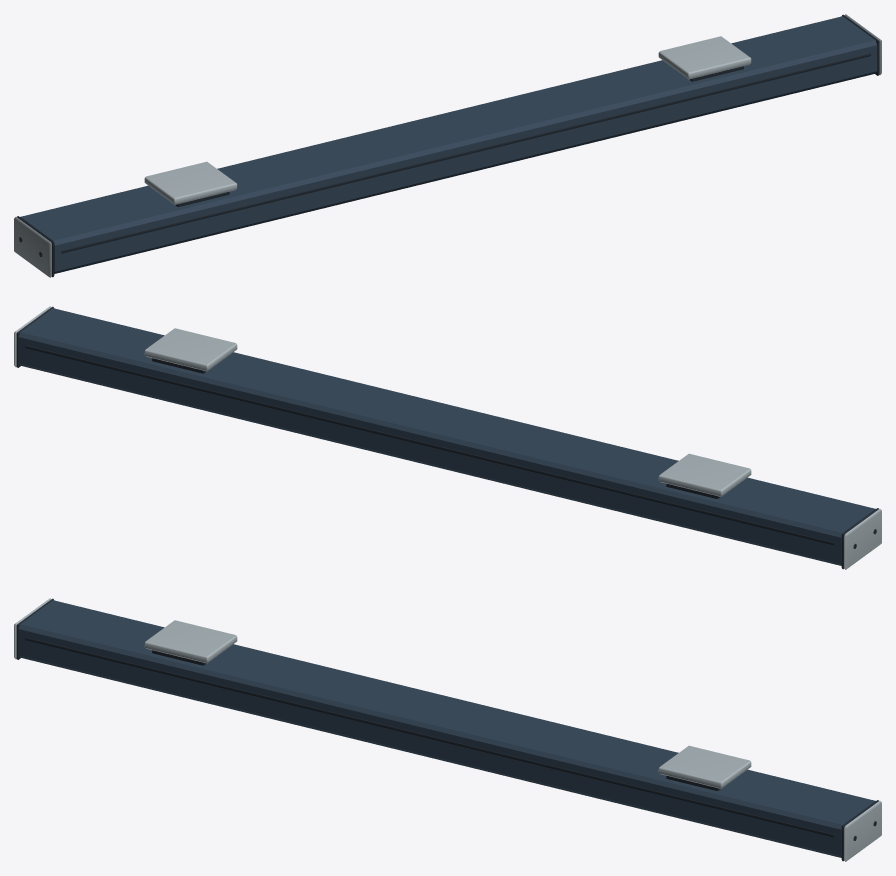
3 renders of one model, top to bottom at view 1: azimuth 30°, elevation 25°; view 2: azimuth 150°, elevation 25°; view 3: azimuth 330°, elevation 25°, orthographic.
Parts seen in each view (by area): view 1: Fixture; view 2: Fixture; view 3: Fixture.
Part boxes in pixels (<box>): Fixture: <box>14,14,881,277</box>; Fixture: <box>14,306,881,569</box>; Fixture: <box>14,598,881,861</box>.
Size of the model in its own units: 1.2 by 0.069 by 0.0918.
